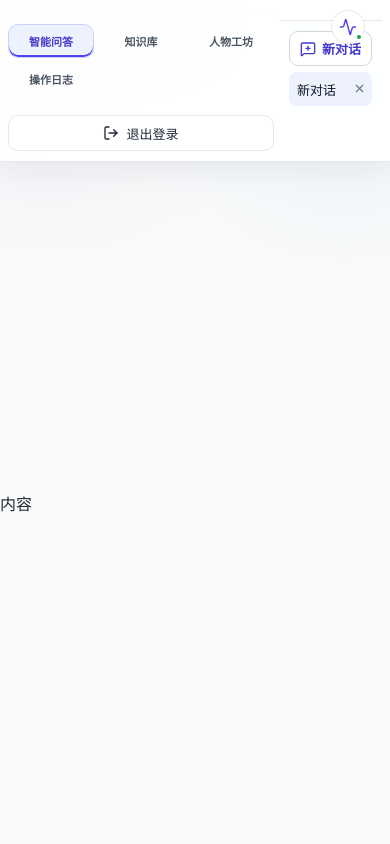
Test: AppShell system status › renders five live status groups and opens the accessible mobile dialog
Click the button named "查看系统状态". click: x=348, y=27
box: left=331, top=10, right=365, bottom=44
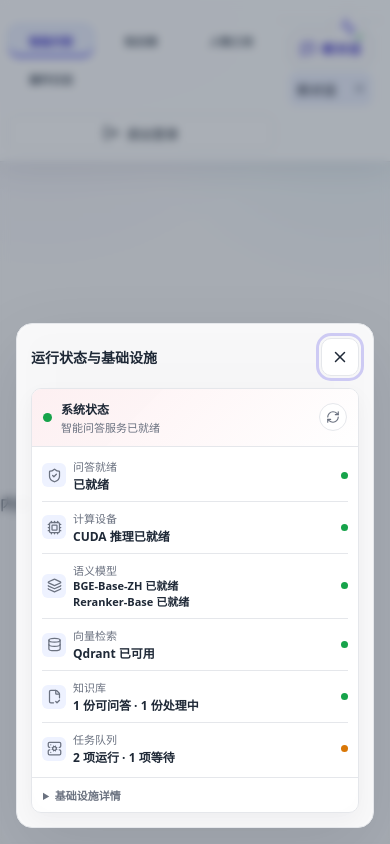
Check: the dialog "系统状态" is shown, box left=16, top=323, right=374, bottom=828
Press Escape
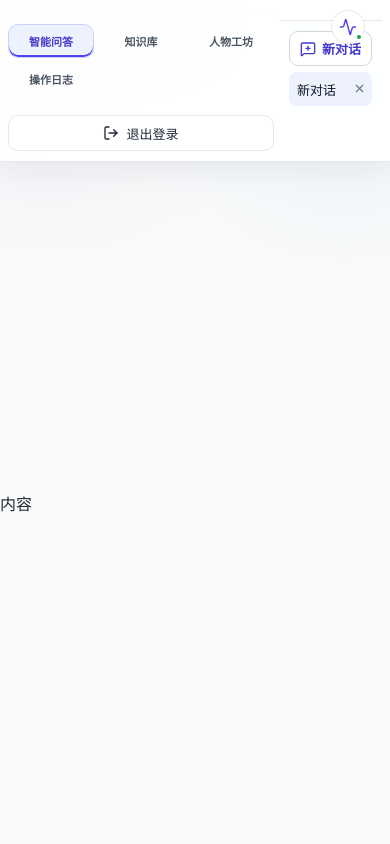
Check: the text "系统状态" is gone
